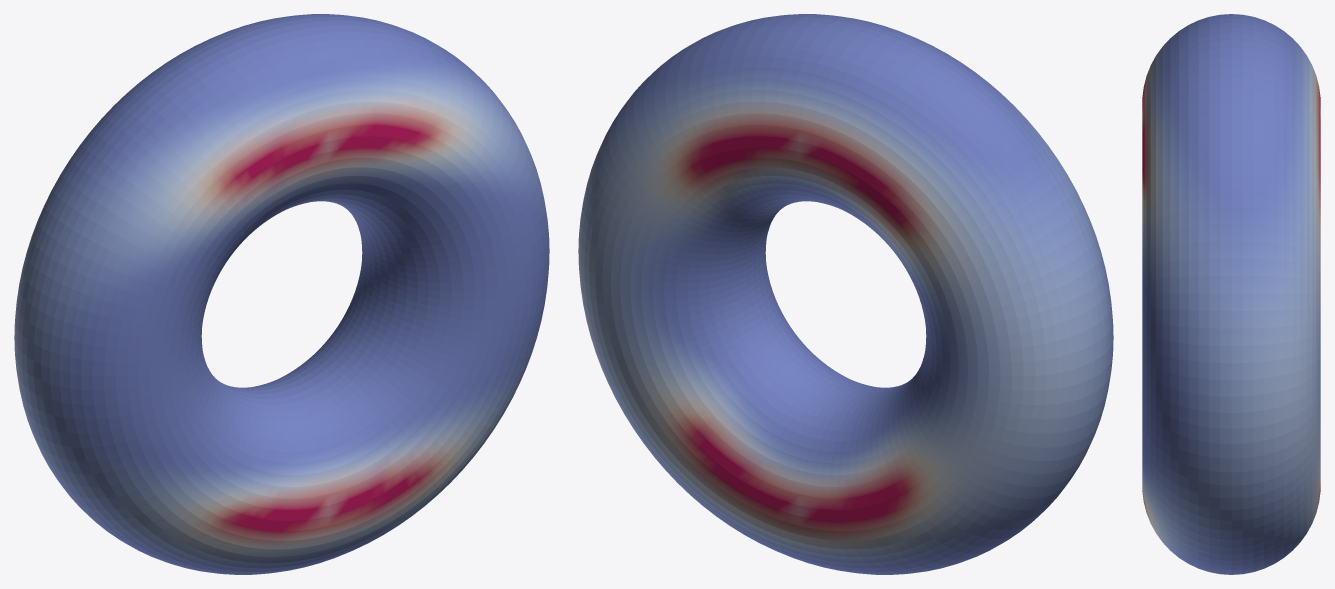
3 renders of one model, left to right at view 1: azimuth 30°, elevation 25°; view 2: azimuth 150°, elevation 25°; view 3: azimuth 270°, elevation 25°, orthographic. The views are drawn at different scales.
Parts seen in each view (by area): view 1: world; view 2: world; view 3: world.
Boxes of the visible parts, x1,y1,x2,y2 form: world: (14, 14, 549, 574); world: (578, 14, 1113, 574); world: (1142, 14, 1320, 574).
Size of the model in its own units: 14.67 by 14.67 by 4.66.
